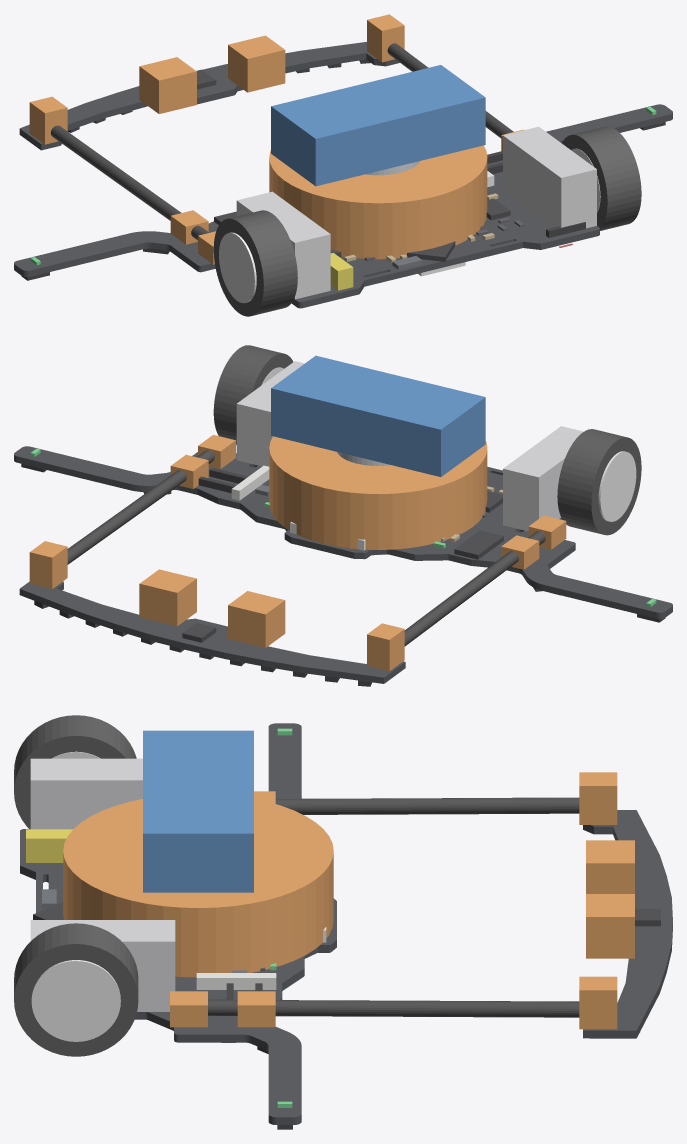
File: robo_v4.glb
3 views of the same model, one above another, from view 1: azimuth 30°, elevation 25°; view 2: azimuth 150°, elevation 25°; view 3: azimuth 270°, elevation 25° (orthographic). The views are drawn at different scales.
Parts seen in each view (by area): view 1: 088 bateria 2S 350 mAh, 086 carcaça da ventoinha (impeller_base), 000 placa base v4, 084 gearbox + motor 1020, 078 pneu, 098 barra de sensores V1, 082 pneu, 080 gearbox + motor 1020, 112 patim (sensor_sledge), 113 patim (sensor_sledge), 092 vareta Ø3, 079 aro (+6 smaller); view 2: 086 carcaça da ventoinha (impeller_base), 088 bateria 2S 350 mAh, 000 placa base v4, 098 barra de sensores V1, 078 pneu, 080 gearbox + motor 1020, 082 pneu, 084 gearbox + motor 1020, 113 patim (sensor_sledge), 112 patim (sensor_sledge), 096 vareta Ø3, 092 vareta Ø3 (+9 smaller); view 3: 086 carcaça da ventoinha (impeller_base), 088 bateria 2S 350 mAh, 000 placa base v4, 082 pneu, 098 barra de sensores V1, 080 gearbox + motor 1020, 083 aro, 096 vareta Ø3, 092 vareta Ø3, 084 gearbox + motor 1020, 078 pneu, 113 patim (sensor_sledge) (+7 smaller).
Boxes of the visible parts, bbox=[...] form: 088 bateria 2S 350 mAh: bbox=[271, 65, 485, 186]; 086 carcaça da ventoinha (impeller_base): bbox=[269, 145, 487, 259]; 000 placa base v4: bbox=[14, 104, 672, 308]; 084 gearbox + motor 1020: bbox=[503, 126, 596, 228]; 078 pneu: bbox=[213, 210, 297, 316]; 098 barra de sensores V1: bbox=[19, 42, 399, 150]; 082 pneu: bbox=[562, 126, 641, 230]; 080 gearbox + motor 1020: bbox=[236, 191, 330, 299]; 112 patim (sensor_sledge): bbox=[139, 57, 196, 113]; 113 patim (sensor_sledge): bbox=[228, 35, 285, 92]; 092 vareta Ø3: bbox=[51, 125, 209, 240]; 079 aro: bbox=[219, 232, 256, 303]; 086 carcaça da ventoinha (impeller_base): bbox=[269, 436, 487, 549]; 088 bateria 2S 350 mAh: bbox=[271, 355, 485, 476]; 000 placa base v4: bbox=[14, 446, 672, 618]; 098 barra de sensores V1: bbox=[19, 581, 405, 683]; 078 pneu: bbox=[557, 429, 641, 535]; 080 gearbox + motor 1020: bbox=[503, 426, 583, 531]; 082 pneu: bbox=[213, 345, 293, 444]; 084 gearbox + motor 1020: bbox=[236, 361, 304, 466]; 113 patim (sensor_sledge): bbox=[139, 569, 196, 626]; 112 patim (sensor_sledge): bbox=[228, 591, 285, 647]; 096 vareta Ø3: bbox=[67, 450, 214, 564]; 092 vareta Ø3: bbox=[404, 531, 545, 646]; 086 carcaça da ventoinha (impeller_base): bbox=[63, 799, 333, 977]; 088 bateria 2S 350 mAh: bbox=[143, 730, 253, 892]; 000 placa base v4: bbox=[20, 723, 336, 1124]; 082 pneu: bbox=[14, 923, 138, 1056]; 098 barra de sensores V1: bbox=[583, 810, 672, 1038]; 080 gearbox + motor 1020: bbox=[30, 758, 142, 829]; 083 aro: bbox=[31, 960, 120, 1041]; 096 vareta Ø3: bbox=[208, 999, 579, 1017]; 092 vareta Ø3: bbox=[275, 797, 579, 814]; 084 gearbox + motor 1020: bbox=[30, 920, 175, 1011]; 078 pneu: bbox=[14, 715, 136, 828]; 113 patim (sensor_sledge): bbox=[586, 894, 634, 958].
Size of the model in its own units: 172 by 32.65 by 122.
